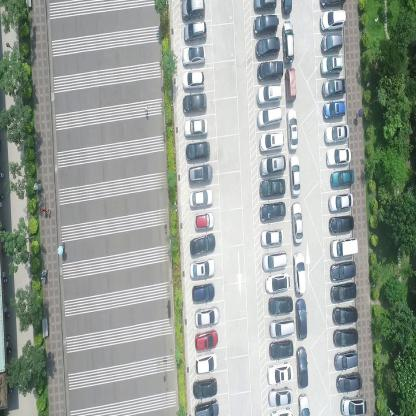car: (329, 236, 356, 260), (319, 8, 346, 32), (321, 75, 347, 99), (256, 60, 284, 82), (259, 154, 287, 176), (323, 121, 348, 145), (336, 370, 362, 393), (255, 36, 281, 59), (256, 105, 282, 128), (258, 130, 284, 153), (264, 271, 290, 294), (267, 361, 293, 384), (192, 377, 218, 400), (340, 394, 367, 416), (259, 177, 286, 199), (259, 201, 286, 223), (261, 250, 288, 272), (268, 316, 295, 338), (189, 233, 216, 255), (327, 192, 353, 214), (329, 261, 355, 283), (330, 283, 356, 305), (291, 201, 304, 245), (293, 250, 306, 294), (296, 345, 309, 389), (253, 14, 279, 36), (256, 84, 282, 106), (267, 294, 293, 316), (268, 386, 294, 408), (189, 257, 216, 278), (184, 116, 208, 139), (194, 329, 218, 352), (325, 146, 350, 168), (333, 326, 358, 348), (333, 349, 358, 371), (181, 45, 206, 67), (185, 139, 210, 161), (188, 162, 213, 184), (195, 306, 220, 328), (327, 215, 354, 235), (322, 98, 346, 120), (282, 20, 294, 64), (183, 21, 207, 43), (189, 188, 213, 210), (329, 168, 354, 189), (259, 227, 284, 248), (332, 306, 358, 326), (286, 107, 298, 150), (320, 53, 343, 75), (195, 352, 218, 374), (289, 154, 301, 196), (192, 282, 216, 303), (269, 340, 294, 360), (182, 93, 207, 113), (193, 397, 220, 415), (320, 32, 342, 54), (182, 70, 205, 91), (182, 0, 206, 20), (296, 298, 307, 340), (285, 66, 297, 104), (193, 211, 214, 230), (297, 393, 311, 415), (253, 0, 277, 12), (270, 406, 294, 416), (319, 0, 346, 8), (280, 0, 293, 15)
